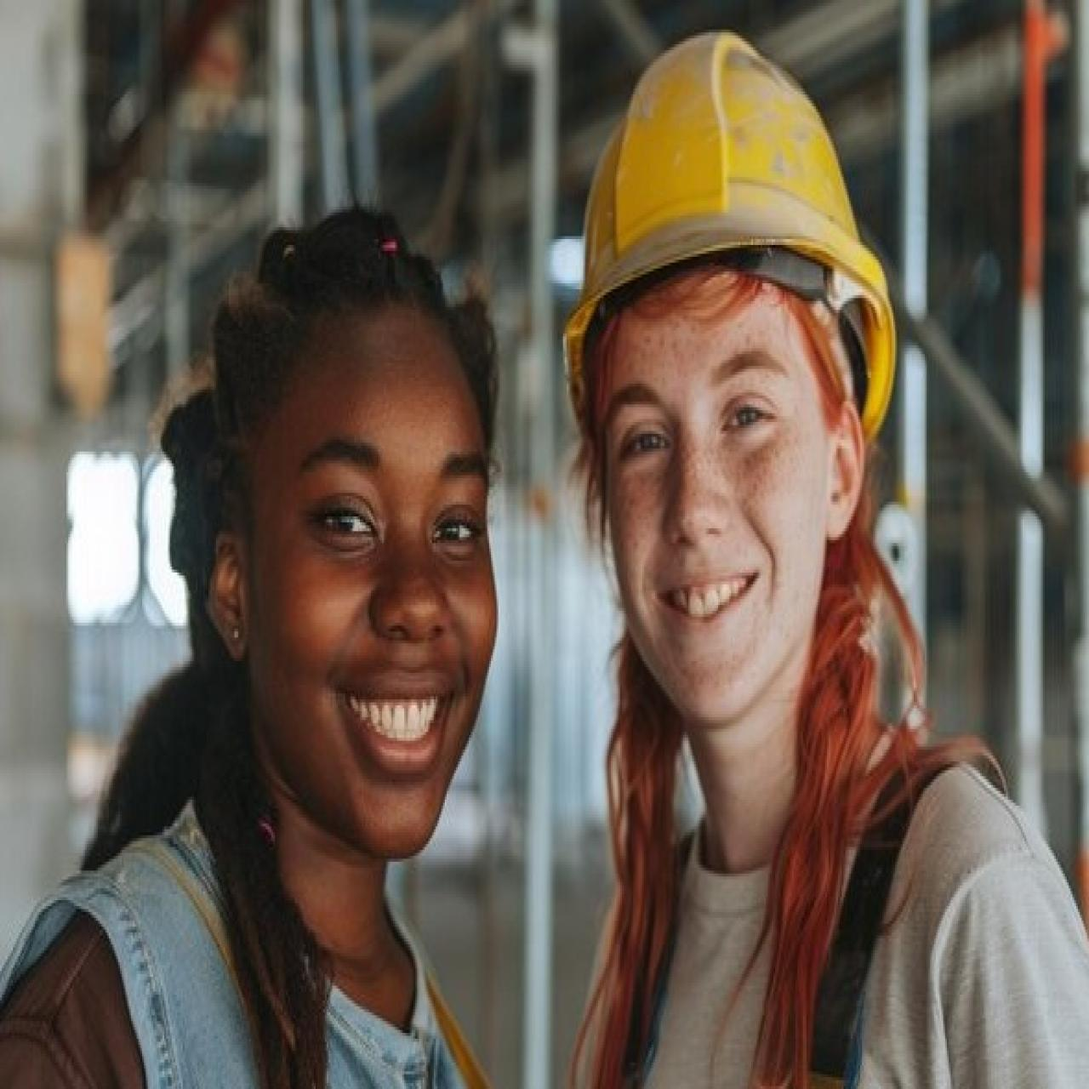NO_Safety_Vest: (614, 784, 1053, 1089), (16, 822, 494, 1089)
Person: (532, 0, 1089, 1089), (6, 157, 513, 1089)
